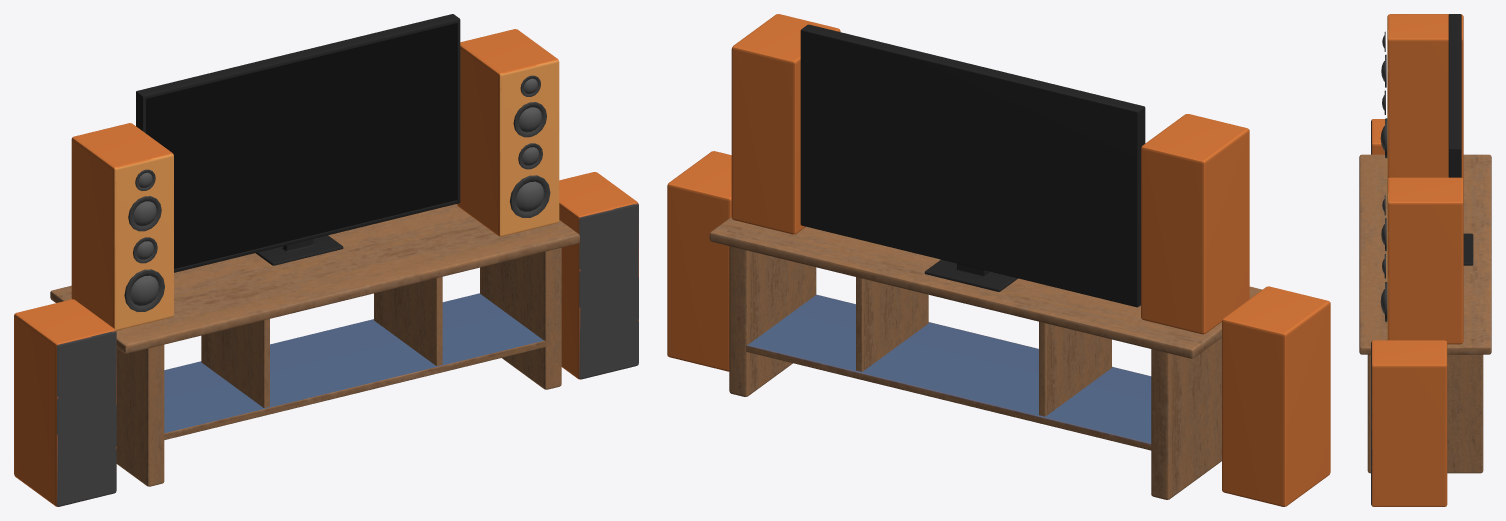
File: Tv_Lvl_5.fbx
3 views of the same model, side by side, from view 1: azimuth 30°, elevation 25°; view 2: azimuth 150°, elevation 25°; view 3: azimuth 270°, elevation 25° (orthographic). The views are drawn at different scales.
Parts seen in each view (by area): view 1: Table_M, Tv_M5, Spekars_M_5_4, Spekars_M_5_3, Spekars_M_5_1, Spekars_M_5_2; view 2: Tv_M5, Table_M, Spekars_M_5_4, Spekars_M_5_3, Spekars_M_5_1, Spekars_M_5_2; view 3: Table_M, Spekars_M_5_1, Spekars_M_5_2, Spekars_M_5_3, Tv_M5, Spekars_M_5_4.
Part boxes in pixels (bbox=[...]): Table_M: bbox=[50, 204, 579, 486]; Tv_M5: bbox=[136, 14, 460, 272]; Spekars_M_5_4: bbox=[14, 299, 116, 506]; Spekars_M_5_3: bbox=[71, 123, 173, 330]; Spekars_M_5_1: bbox=[457, 29, 559, 236]; Spekars_M_5_2: bbox=[559, 172, 638, 379]; Tv_M5: bbox=[800, 24, 1145, 307]; Table_M: bbox=[709, 217, 1261, 499]; Spekars_M_5_4: bbox=[1222, 286, 1330, 506]; Spekars_M_5_3: bbox=[1141, 114, 1249, 334]; Spekars_M_5_1: bbox=[731, 14, 840, 234]; Spekars_M_5_2: bbox=[667, 151, 731, 371]; Table_M: bbox=[1359, 154, 1491, 473]; Spekars_M_5_1: bbox=[1380, 177, 1463, 344]; Spekars_M_5_2: bbox=[1371, 340, 1447, 506]; Spekars_M_5_3: bbox=[1380, 14, 1463, 178]; Tv_M5: bbox=[1448, 14, 1473, 265]; Spekars_M_5_4: bbox=[1371, 119, 1384, 154].
Bounding box in the file's own units: 4.24 × 2.42 × 0.9559.
1 material, 1 textured.
